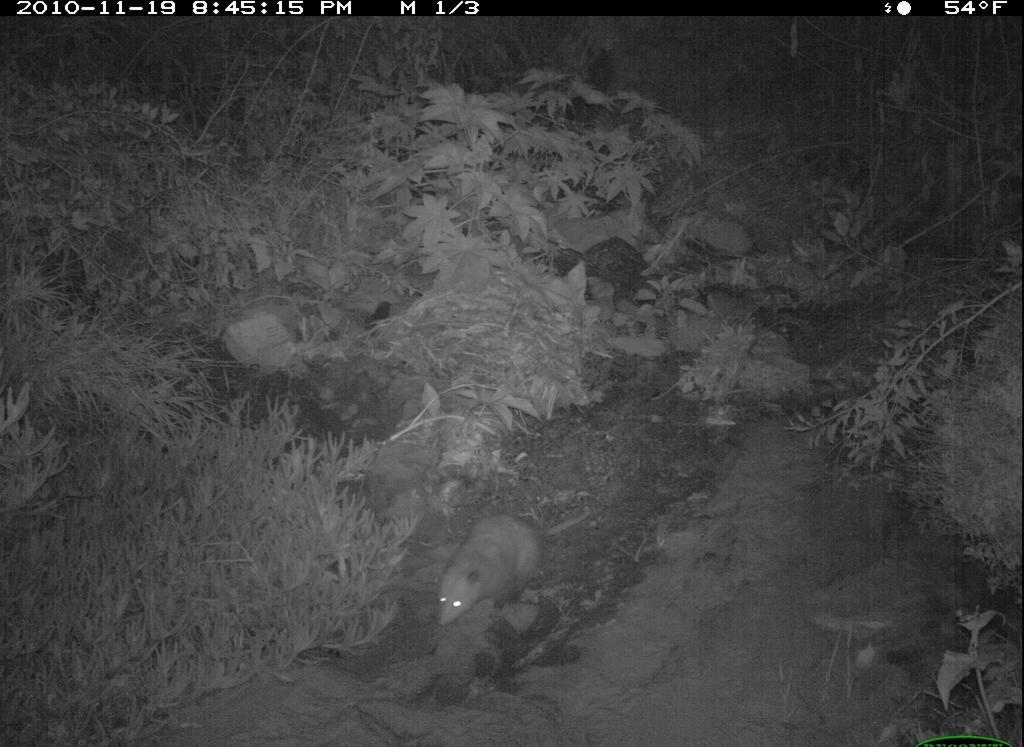opossum: (425, 506, 592, 639)
